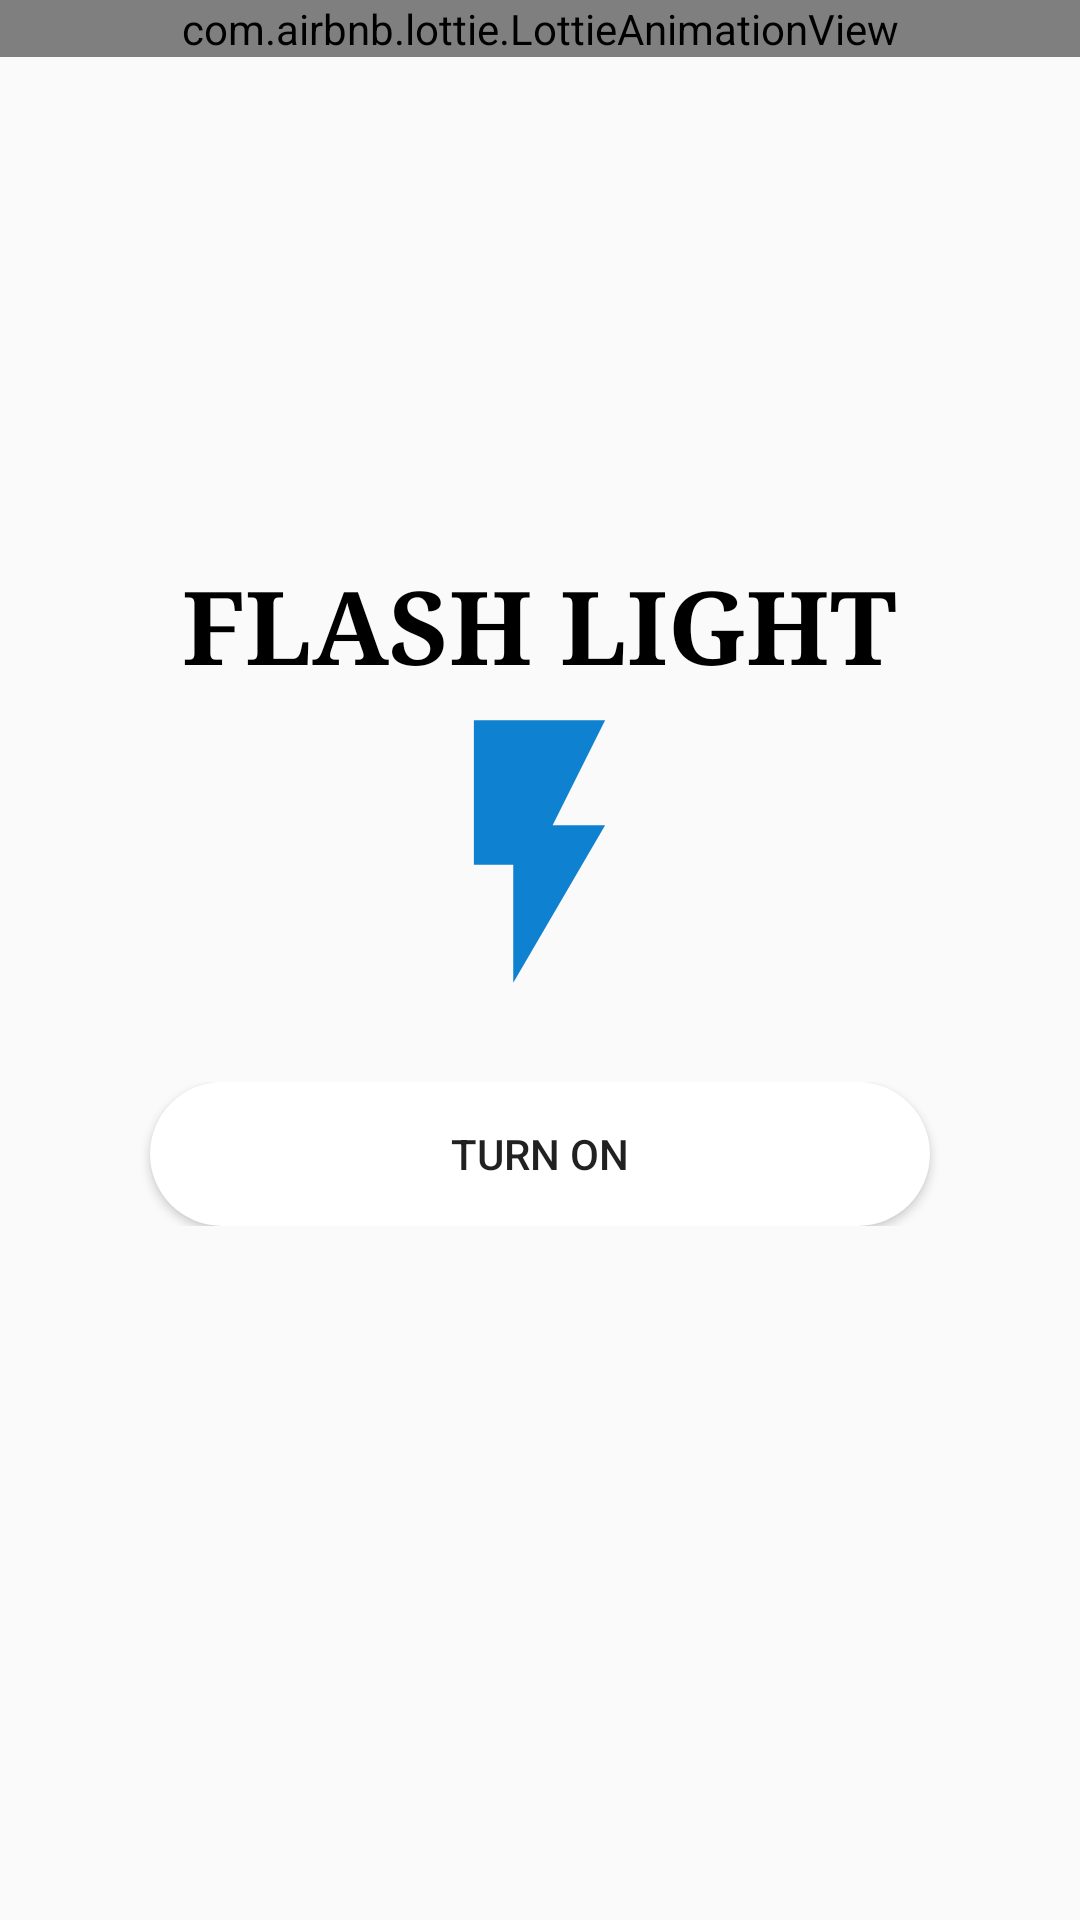

Named icons in this screenshot (1080x1920) and their centers, (x,y):
flash on: (539,851)
